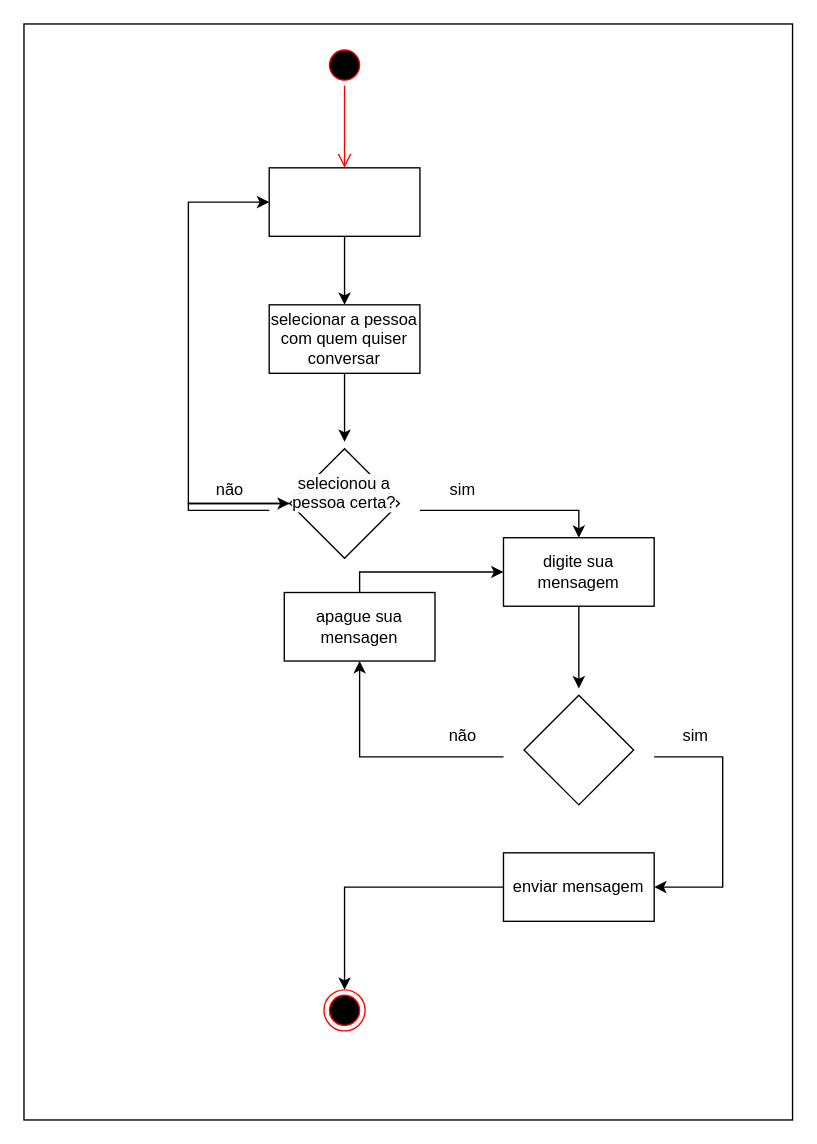
This 817x1144 diagram has some shape labels left out. Here are the shapes that lost their labels. From the top down, the centre of each, then its label:
the point at 344,201: abrir a tela inicial do chat
the point at 578,749: mensagem está correta?
